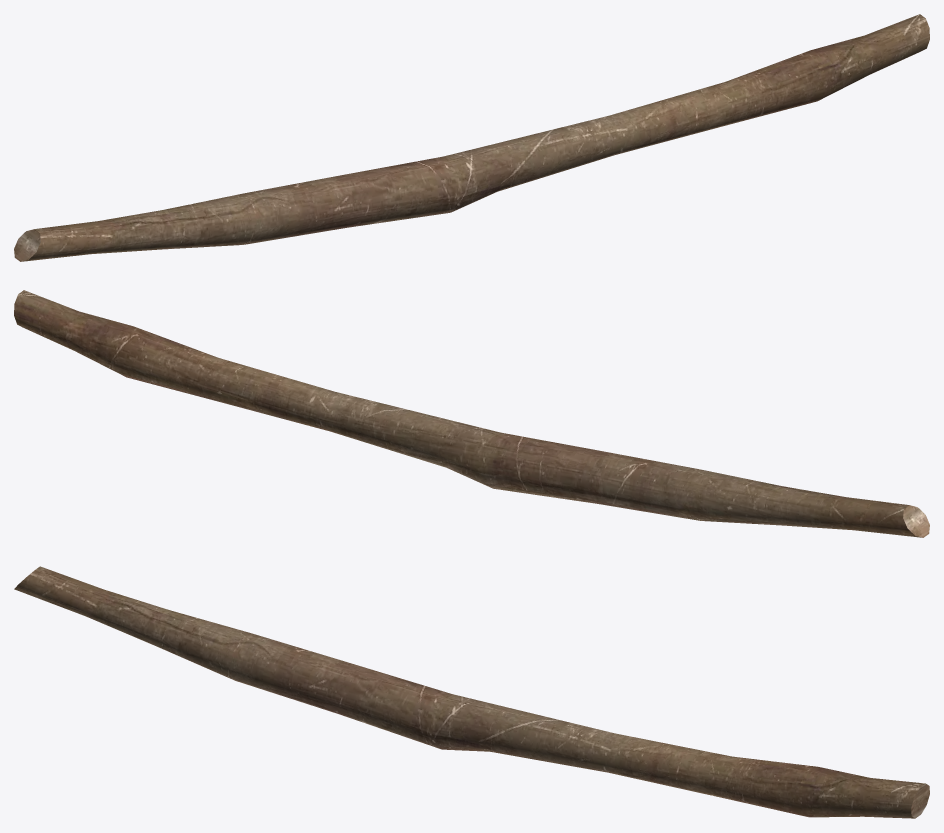
3 renders of one model, top to bottom at view 1: azimuth 30°, elevation 25°; view 2: azimuth 150°, elevation 25°; view 3: azimuth 330°, elevation 25°, orthographic.
Visible parts, largest first — view 1: SM_Wall_Horizontal_Banner_Frame_01_LOD0; view 2: SM_Wall_Horizontal_Banner_Frame_01_LOD0; view 3: SM_Wall_Horizontal_Banner_Frame_01_LOD0.
Boxes of the visible parts, x1,y1,x2,y2 form: SM_Wall_Horizontal_Banner_Frame_01_LOD0: [14, 14, 929, 261]; SM_Wall_Horizontal_Banner_Frame_01_LOD0: [14, 290, 929, 537]; SM_Wall_Horizontal_Banner_Frame_01_LOD0: [14, 566, 929, 818].
Bounding box in the file's own units: 2.46 × 0.2026 × 0.1348.
Materials: 1 (1 with a texture image).
